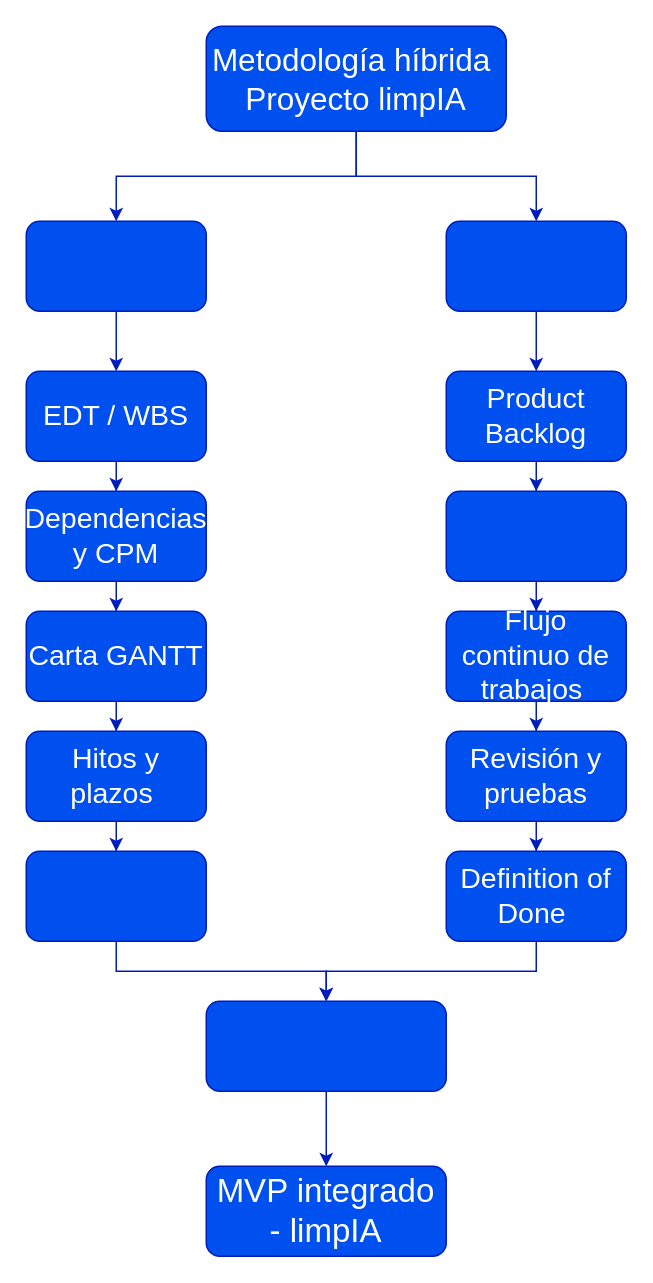
This 653x1283 diagram has some shape labels left out. The centre of each missing label's shape, as x and y in pixels:
"Desarrollo iterativo e incremental" belongs at pixel 325 1045.
"Gestión de riesgos" belongs at pixel 115 895.
"Gestión ágil - Kan ban" belongs at pixel 535 265.
"Planificación predictiva" belongs at pixel 115 265.
"Priorización MoSCow" belongs at pixel 535 535.
